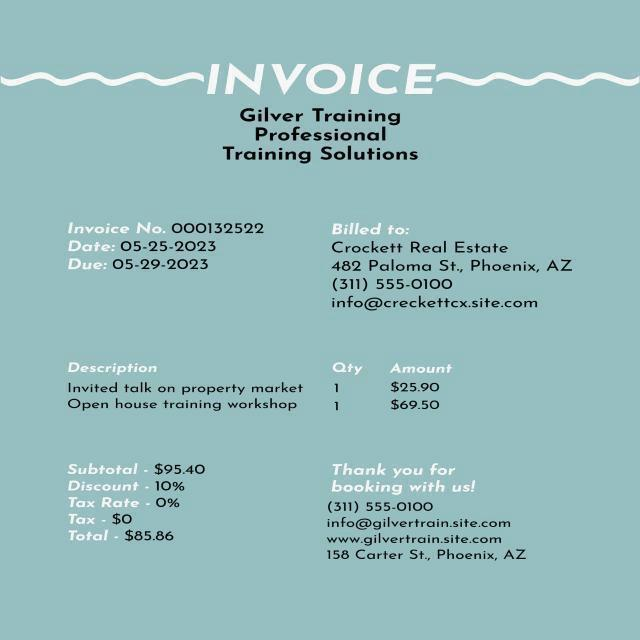paragraph: (323, 461, 555, 581), (321, 221, 578, 320), (54, 451, 222, 564), (194, 38, 455, 101), (29, 218, 276, 281), (208, 106, 442, 169)
table: (47, 337, 556, 429)
